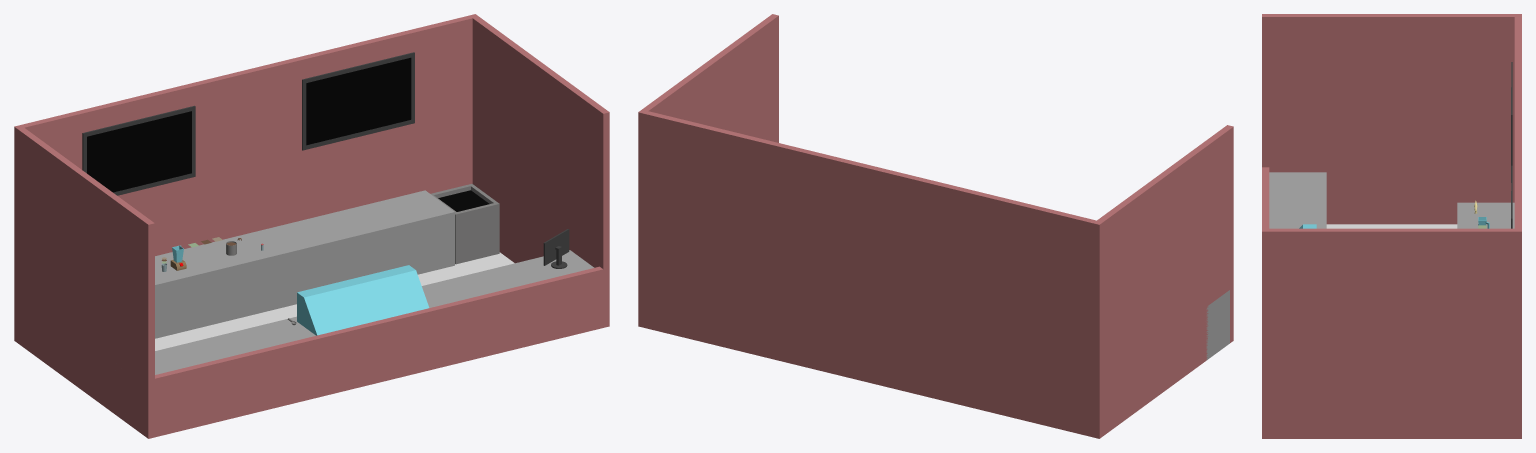
Rendered from Restaurant_Stall.fbx.
The picture shows the model from 3 angles, left to right: view 1: azimuth 30°, elevation 25°; view 2: azimuth 150°, elevation 25°; view 3: azimuth 270°, elevation 25°; orthographic projection. The views are drawn at different scales.
Parts seen in each view (by area): view 1: backWall, rightWall, frontWall, leftWall, rearCounter, menuMonitorScreen (×2), frontCounter, iceCreamCover, menuMonitorBezel (×2), floor, garbage, garbageTop (+1 smaller); view 2: backWall, rightWall, leftWall, frontCounter; view 3: leftWall, rightWall, frontCounter, backWall, rearCounter, floor, frontWall.
Boxes of the visible parts, left/top/right/bottom form: backWall: left=14, top=14, right=478, bottom=341; rightWall: left=14, top=125, right=154, bottom=438; frontWall: left=146, top=266, right=609, bottom=438; leftWall: left=472, top=16, right=609, bottom=269; rearCounter: left=155, top=190, right=454, bottom=338; menuMonitorScreen (×2): left=87, top=57, right=411, bottom=192; frontCounter: left=155, top=250, right=594, bottom=374; iceCreamCover: left=297, top=265, right=429, bottom=335; menuMonitorBezel (×2): left=82, top=52, right=414, bottom=195; floor: left=155, top=252, right=514, bottom=350; garbage: left=431, top=184, right=499, bottom=264; garbageTop: left=438, top=190, right=489, bottom=211; backWall: left=638, top=109, right=1103, bottom=438; rightWall: left=1093, top=125, right=1233, bottom=438; leftWall: left=638, top=14, right=778, bottom=327; frontCounter: left=1206, top=290, right=1229, bottom=360; leftWall: left=1262, top=228, right=1521, bottom=438; rightWall: left=1262, top=14, right=1521, bottom=224; frontCounter: left=1269, top=172, right=1326, bottom=228; backWall: left=1514, top=14, right=1521, bottom=285; rearCounter: left=1457, top=202, right=1514, bottom=228; floor: left=1326, top=224, right=1457, bottom=228; frontWall: left=1262, top=167, right=1269, bottom=228.
Size of the model in its own units: 8.23 by 3.65 by 4.15.
